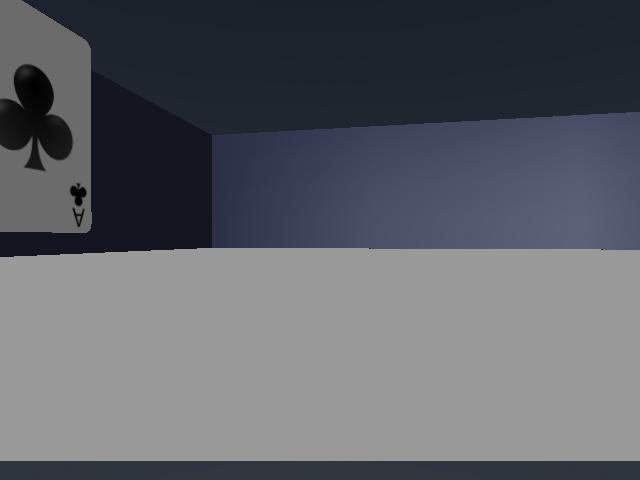spade: (0, 0, 91, 232)
